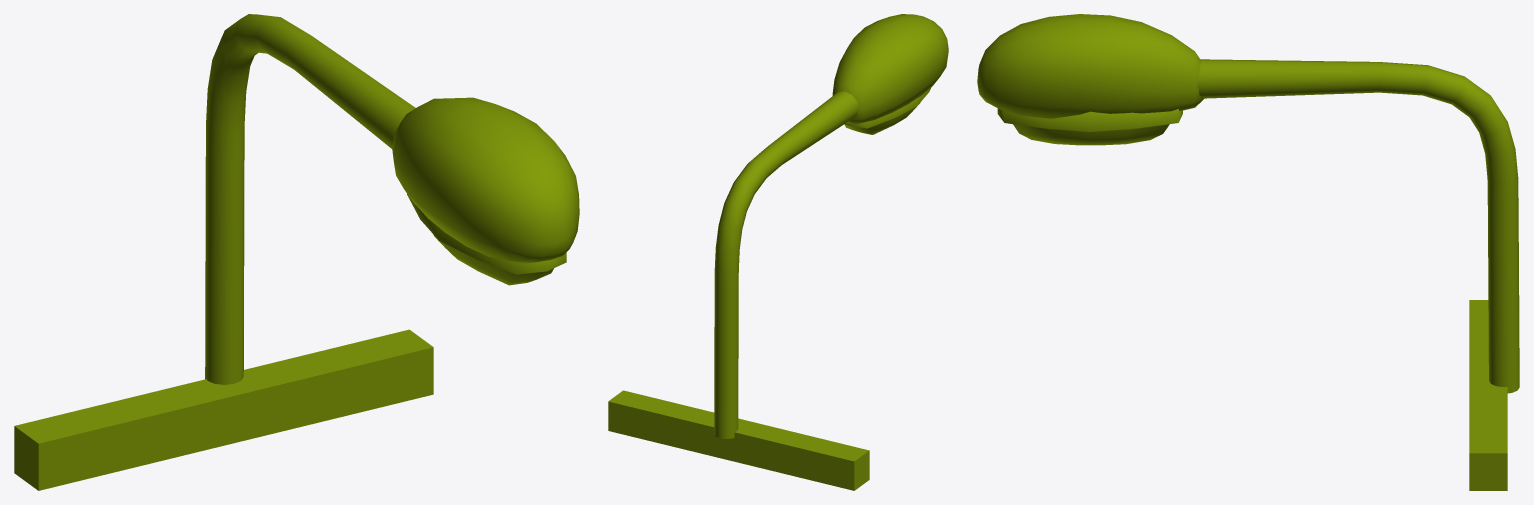
The model's file is SM_Lamp.fbx.
3 renders of one model, left to right at view 1: azimuth 30°, elevation 25°; view 2: azimuth 150°, elevation 25°; view 3: azimuth 270°, elevation 25°, orthographic. The views are drawn at different scales.
Visible parts, largest first — view 1: Lamp; view 2: Lamp; view 3: Lamp.
Part boxes in pixels (x1,y1,x2,y2): Lamp: (14,14,579,490); Lamp: (608,14,948,490); Lamp: (977,14,1519,490).
Size of the model in its own units: 70.79 by 85.68 by 106.
